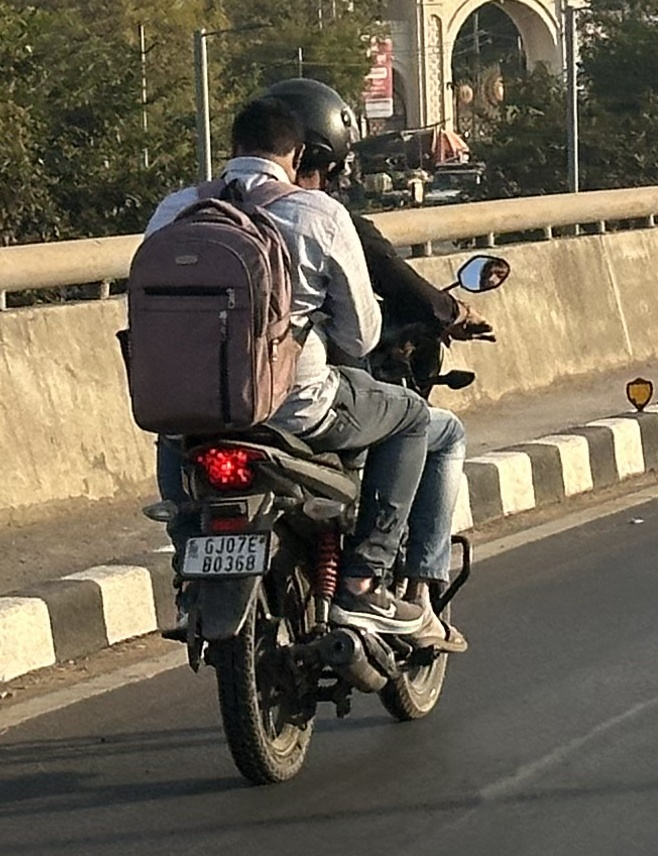BikeWithRider: (99, 68, 522, 799)
Helmet: (251, 69, 365, 194)
NoHelmet: (213, 89, 317, 190)
